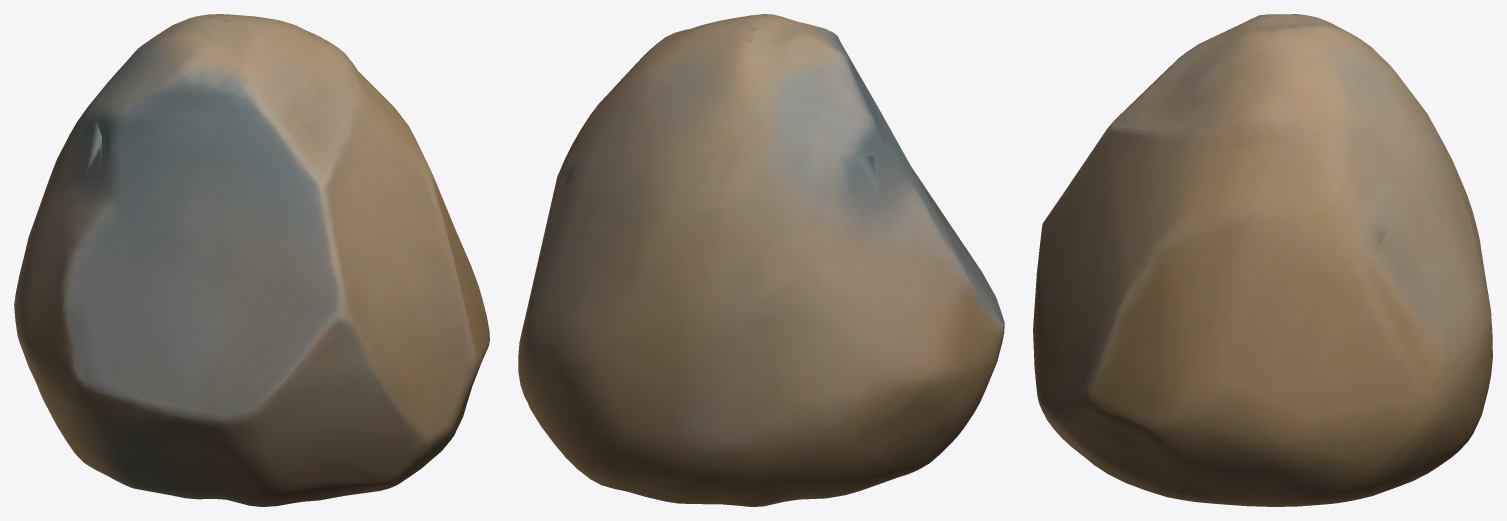
Rendered from large_rock_photographic_76eae03f_v3.glb.
3 renders of one model, left to right at view 1: azimuth 30°, elevation 25°; view 2: azimuth 150°, elevation 25°; view 3: azimuth 270°, elevation 25°, orthographic. The views are drawn at different scales.
Visible parts, largest first — view 1: material; view 2: material; view 3: material.
Part boxes in pixels (x1,y1,x2,y2): material: [14, 14, 489, 506]; material: [518, 14, 1004, 506]; material: [1033, 14, 1492, 506].
Bounding box in the file's own units: 1.9 × 1.84 × 1.88.
Materials: 1 (1 with a texture image).
